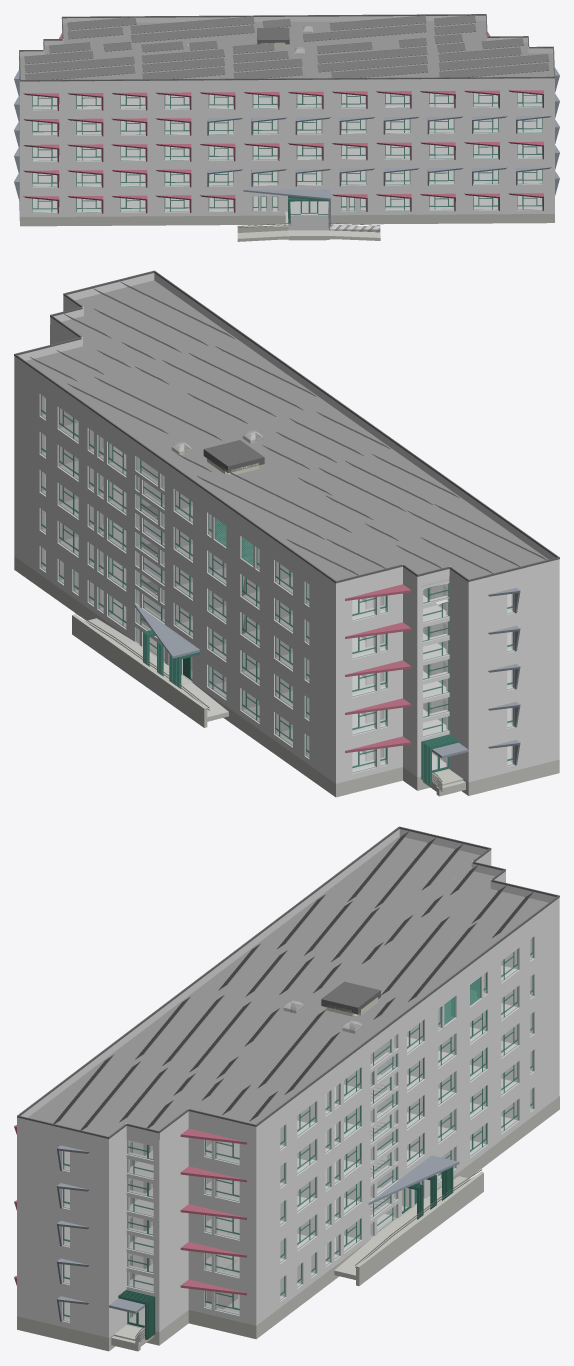
3 renders of one model, top to bottom at view 1: azimuth 30°, elevation 25°; view 2: azimuth 150°, elevation 25°; view 3: azimuth 270°, elevation 25°, orthographic. The views are drawn at different scales.
Visible parts, largest first — view 1: 0qFjruy0XgjnFGYcKqEPMJ, 27r23QDpLe8I2pqLaNxp1w, 0K7M2jfc6nST9Q7MXy9Irs, 3QXrJ1d6AAOnxto2fNNlxe, 3nhtKbNHxJqQLY52xChfjD, 3$tOkpj6DD13HluauyNzso, 0jslk0yobDUaFNTV0$VWIx, 2YeE_yZoMId99EkBLmj2kJ, 1t7cRInv0dTcqfhYXi1$mk, 17Dk$t8KUTwywuE6O0fesL, 0yAEwlU8wCSwlZbMFNDBMf, 3_220jgTJdswzUyWvx5ABu (+41 smaller); view 2: 0qFjruy0XgjnFGYcKqEPMJ, 3fBLEebN0kN6xGCvJZZGb6, 3bqY_VkqBlU25u8uOJQMQQ, 28K0gksUlE7PxpbkwVNXNr, 0xrYtYnQsVr4BzOX$eOxFU, 0Vja0nqn1KTjNeTbPFOum5, 2Ytja_wQDZU$YmNzQnp67f, 2SN7ZOEuyu80OJq5WtdGGv, 1T6K2ywQiP1w2D8k0ImLPW, 0k_LF08e7LKXr9$qCaafZa, 3wmxIf7a3Zszu9lGX8msKS, 2b6DmlSWoIVe1nnpaek13q (+49 smaller); view 3: 0qFjruy0XgjnFGYcKqEPMJ, 3fBLEebN0kN6xGCvJZZGb6, 3bqY_VkqBlU25u8uOJQMQQ, 28K0gksUlE7PxpbkwVNXNr, 33PjOHhjTvfifVd$V4DPQT, 0IKJVDEANDGJG5UhF96u42, 2ywOoY9LS0ey1pSVpiJDEk, 144RL9uNC9sLz8JS6S2fGq, 2KB0XmJSGsvRoHXE7E2Xkt, 0k_LF08e7LKXr9$qCaafZa, 3wmxIf7a3Zszu9lGX8msKS, 2b6DmlSWoIVe1nnpaek13q (+57 smaller).
Part boxes in pixels (box(x1,y1,x2,y2)): 0qFjruy0XgjnFGYcKqEPMJ: box(20, 20, 553, 79); 27r23QDpLe8I2pqLaNxp1w: box(20, 190, 287, 217); 0K7M2jfc6nST9Q7MXy9Irs: box(331, 83, 554, 112); 3QXrJ1d6AAOnxto2fNNlxe: box(331, 188, 554, 215); 3nhtKbNHxJqQLY52xChfjD: box(331, 162, 554, 189); 3$tOkpj6DD13HluauyNzso: box(20, 85, 199, 114); 0jslk0yobDUaFNTV0$VWIx: box(32, 196, 542, 213); 2YeE_yZoMId99EkBLmj2kJ: box(32, 93, 542, 108); 1t7cRInv0dTcqfhYXi1$mk: box(32, 170, 542, 185); 17Dk$t8KUTwywuE6O0fesL: box(32, 144, 542, 159); 0yAEwlU8wCSwlZbMFNDBMf: box(32, 118, 542, 133); 3_220jgTJdswzUyWvx5ABu: box(20, 113, 199, 139); 0qFjruy0XgjnFGYcKqEPMJ: box(26, 280, 548, 580); 3fBLEebN0kN6xGCvJZZGb6: box(166, 471, 335, 630); 3bqY_VkqBlU25u8uOJQMQQ: box(166, 588, 335, 745); 28K0gksUlE7PxpbkwVNXNr: box(200, 650, 335, 783); 0xrYtYnQsVr4BzOX$eOxFU: box(468, 566, 559, 630); 0Vja0nqn1KTjNeTbPFOum5: box(468, 683, 559, 744); 2Ytja_wQDZU$YmNzQnp67f: box(468, 721, 559, 782); 2SN7ZOEuyu80OJq5WtdGGv: box(468, 645, 559, 706); 1T6K2ywQiP1w2D8k0ImLPW: box(468, 607, 559, 667); 0k_LF08e7LKXr9$qCaafZa: box(72, 614, 207, 727); 3wmxIf7a3Zszu9lGX8msKS: box(14, 556, 335, 797); 2b6DmlSWoIVe1nnpaek13q: box(14, 518, 83, 604); 0qFjruy0XgjnFGYcKqEPMJ: box(28, 836, 548, 1136); 3fBLEebN0kN6xGCvJZZGb6: box(400, 905, 559, 1065); 3bqY_VkqBlU25u8uOJQMQQ: box(397, 1021, 559, 1178); 28K0gksUlE7PxpbkwVNXNr: box(432, 1059, 559, 1188); 33PjOHhjTvfifVd$V4DPQT: box(17, 1125, 109, 1186); 0IKJVDEANDGJG5UhF96u42: box(17, 1241, 108, 1299); 2ywOoY9LS0ey1pSVpiJDEk: box(17, 1165, 108, 1224); 144RL9uNC9sLz8JS6S2fGq: box(17, 1278, 108, 1337); 2KB0XmJSGsvRoHXE7E2Xkt: box(17, 1203, 108, 1262); 0k_LF08e7LKXr9$qCaafZa: box(356, 1172, 483, 1285); 3wmxIf7a3Zszu9lGX8msKS: box(256, 1096, 559, 1338); 2b6DmlSWoIVe1nnpaek13q: box(256, 1239, 321, 1325).
Size of the model in its own units: 60.47 by 19.74 by 43.95.
